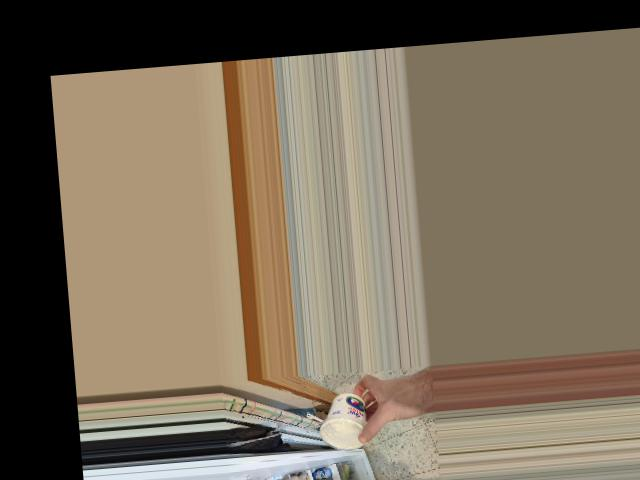cotage: (313, 397, 368, 445)
